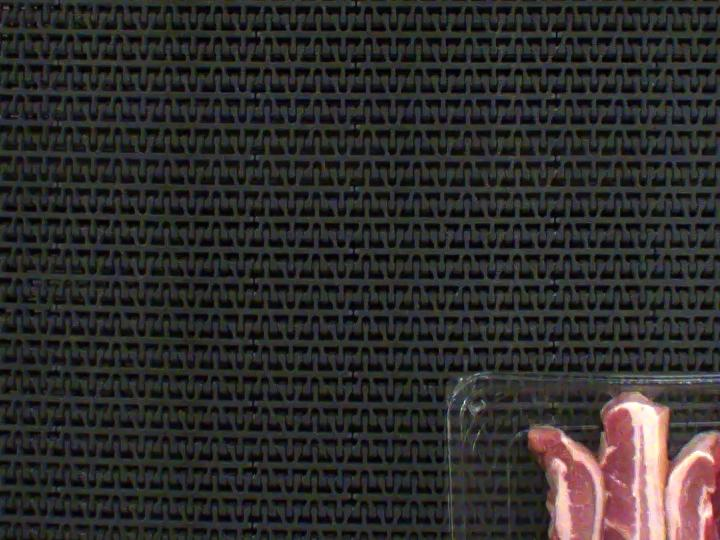packaging-error: (602, 381, 667, 401)
